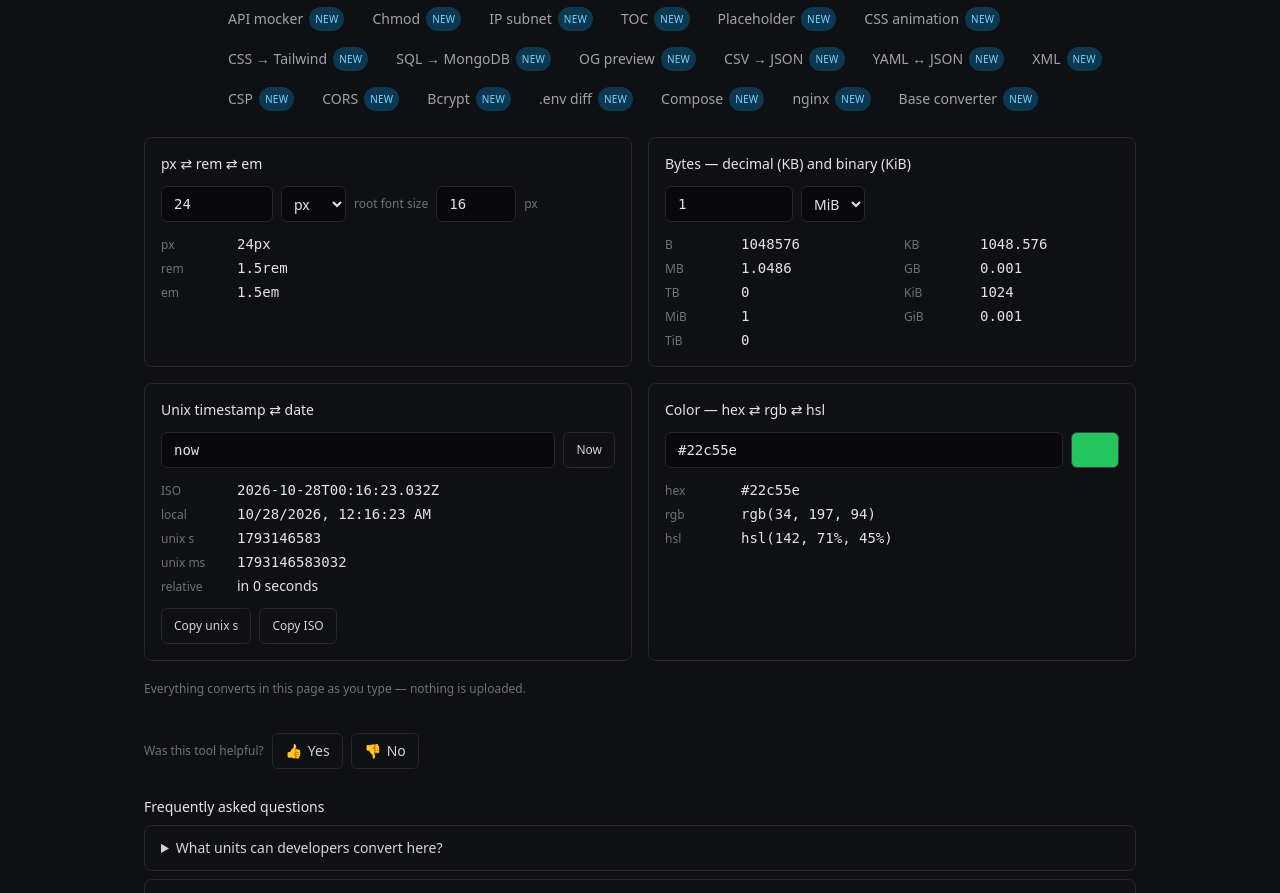
Scenario: UnitPage › converts a color and flags junk
(page scrolled)
Replace the text in the field with test id "color-in" with "rgb(255, 0, 0)" at (864, 450), box [665,432,1063,468]
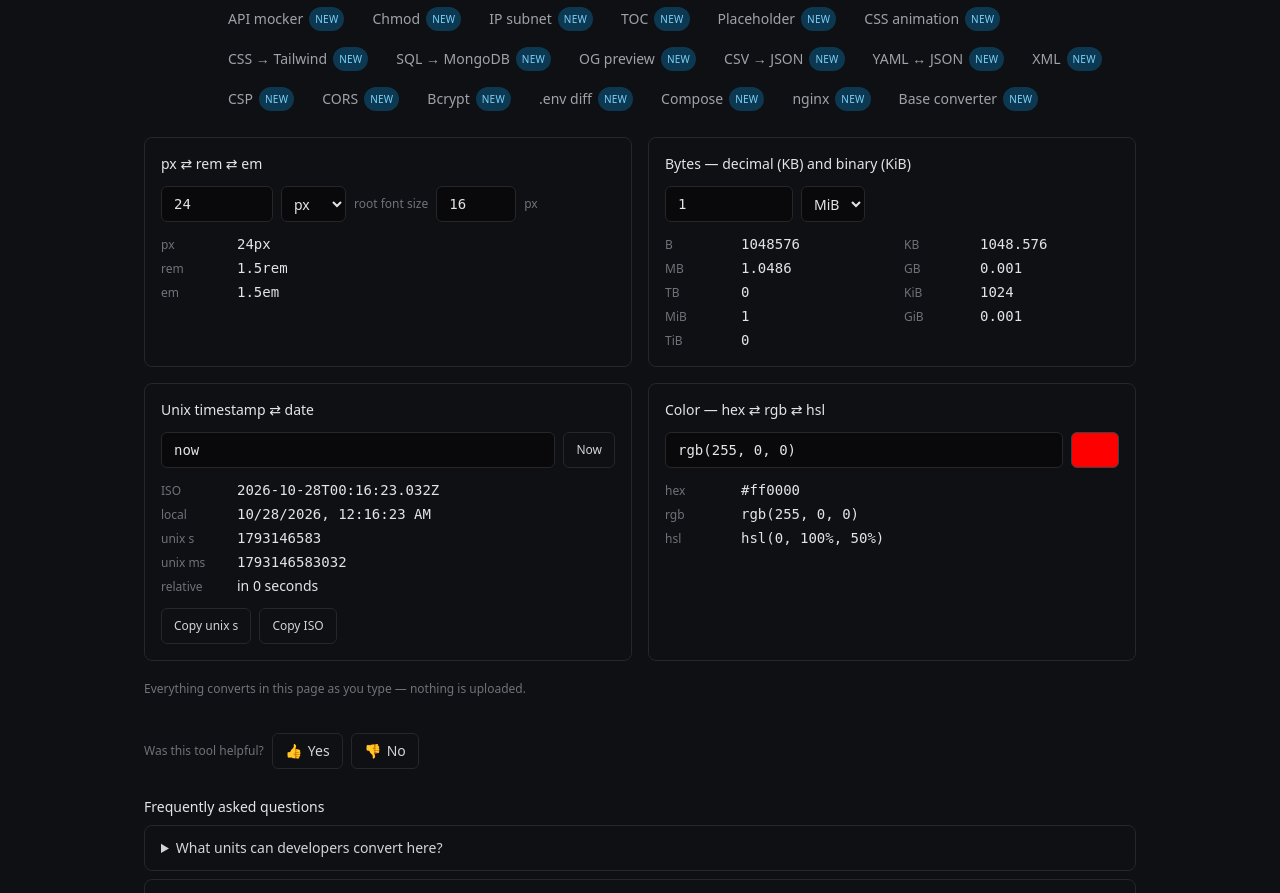
Expected: the element with test id "color-out" shows "#ff0000", [741,482,800,498]
Replace the text in the field with test id "color-in" with "reddish" at (864, 450), box [665,432,1063,468]
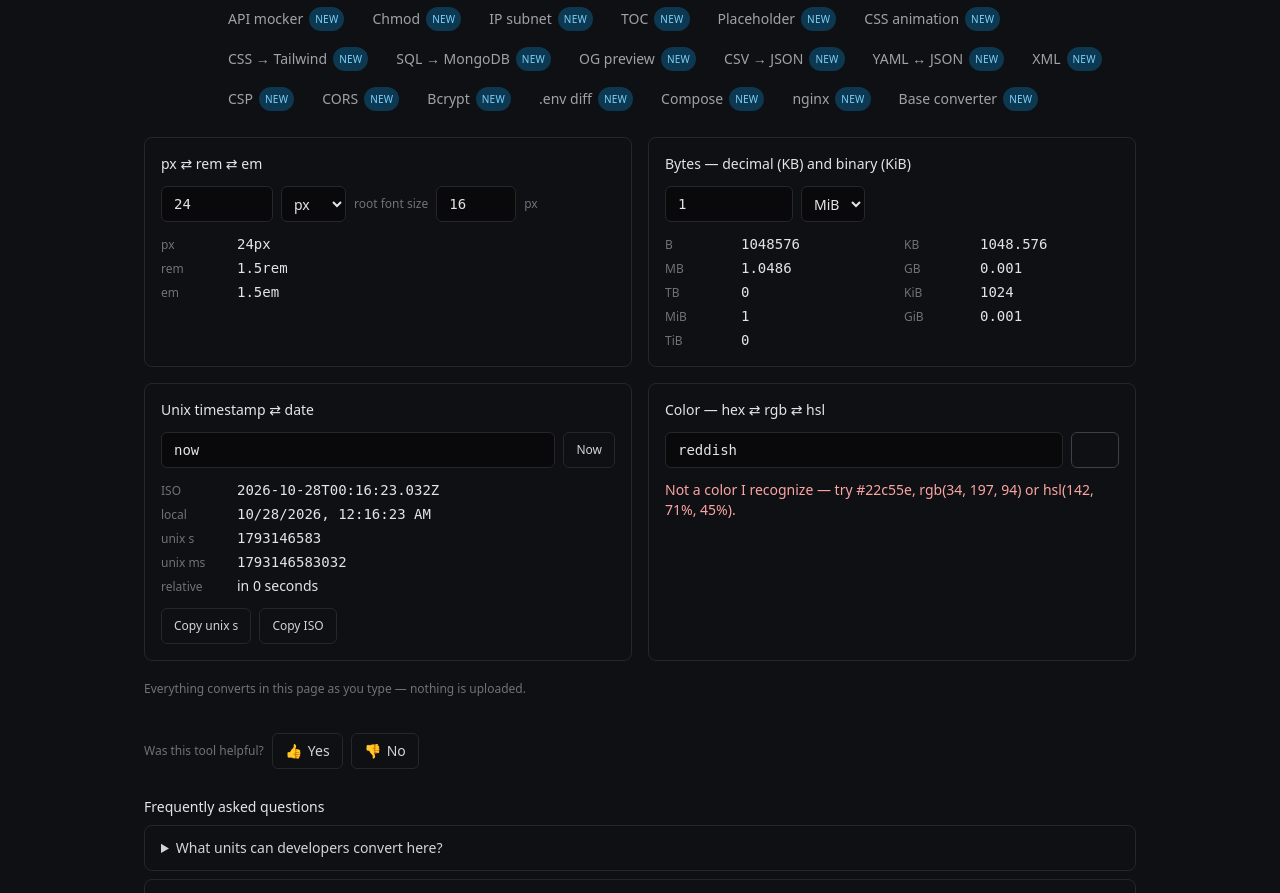
Expected: the text "Not a color I recognize — try #22c55e, rgb(34, 197, 94) or hsl(142, 71%, 45%)." is shown, [665,480,1119,520]
